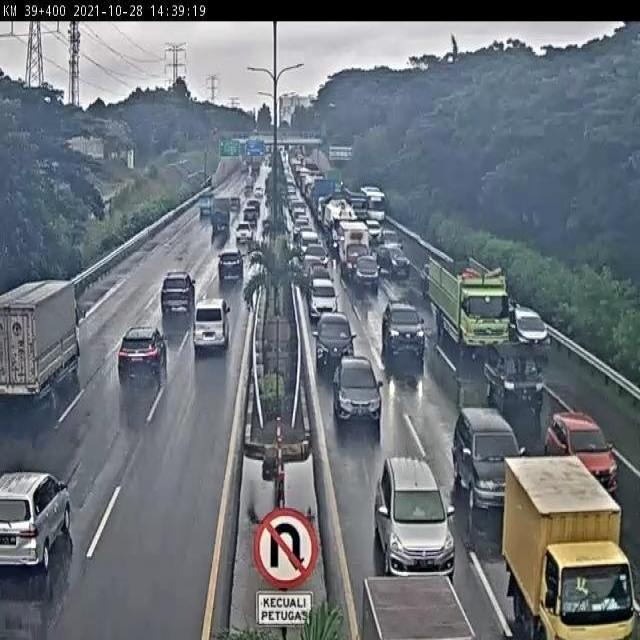Bus: (361, 188, 387, 218)
Car: (370, 457, 457, 581), (0, 474, 72, 580), (452, 406, 514, 500), (482, 355, 543, 418), (334, 358, 384, 425), (117, 330, 164, 378), (386, 306, 425, 360), (316, 314, 353, 368), (194, 300, 229, 352), (512, 310, 556, 350), (307, 276, 337, 322), (162, 276, 194, 315), (305, 244, 336, 276), (377, 247, 412, 273), (356, 259, 380, 291), (218, 252, 244, 281), (297, 232, 319, 255), (294, 208, 312, 228), (235, 224, 253, 243), (242, 206, 257, 224), (230, 198, 241, 210)
Truck: (500, 460, 640, 640), (2, 280, 82, 395), (425, 256, 512, 347), (342, 224, 370, 274), (211, 198, 230, 241)
